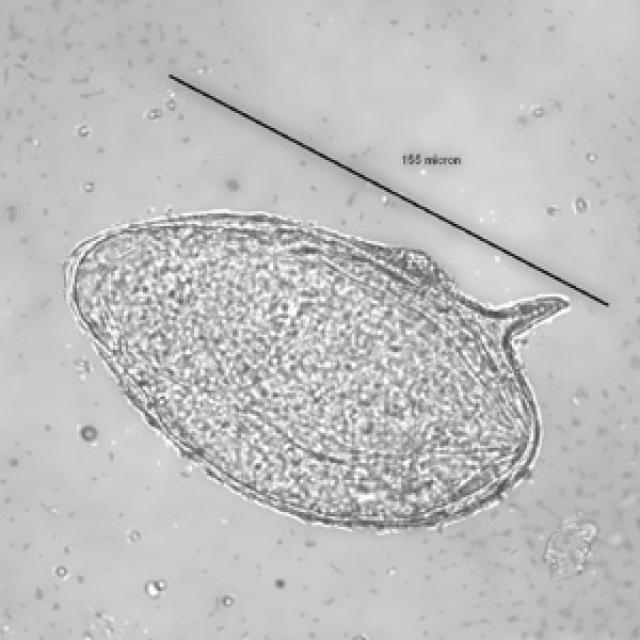Schistosoma: (62, 208, 580, 541)
